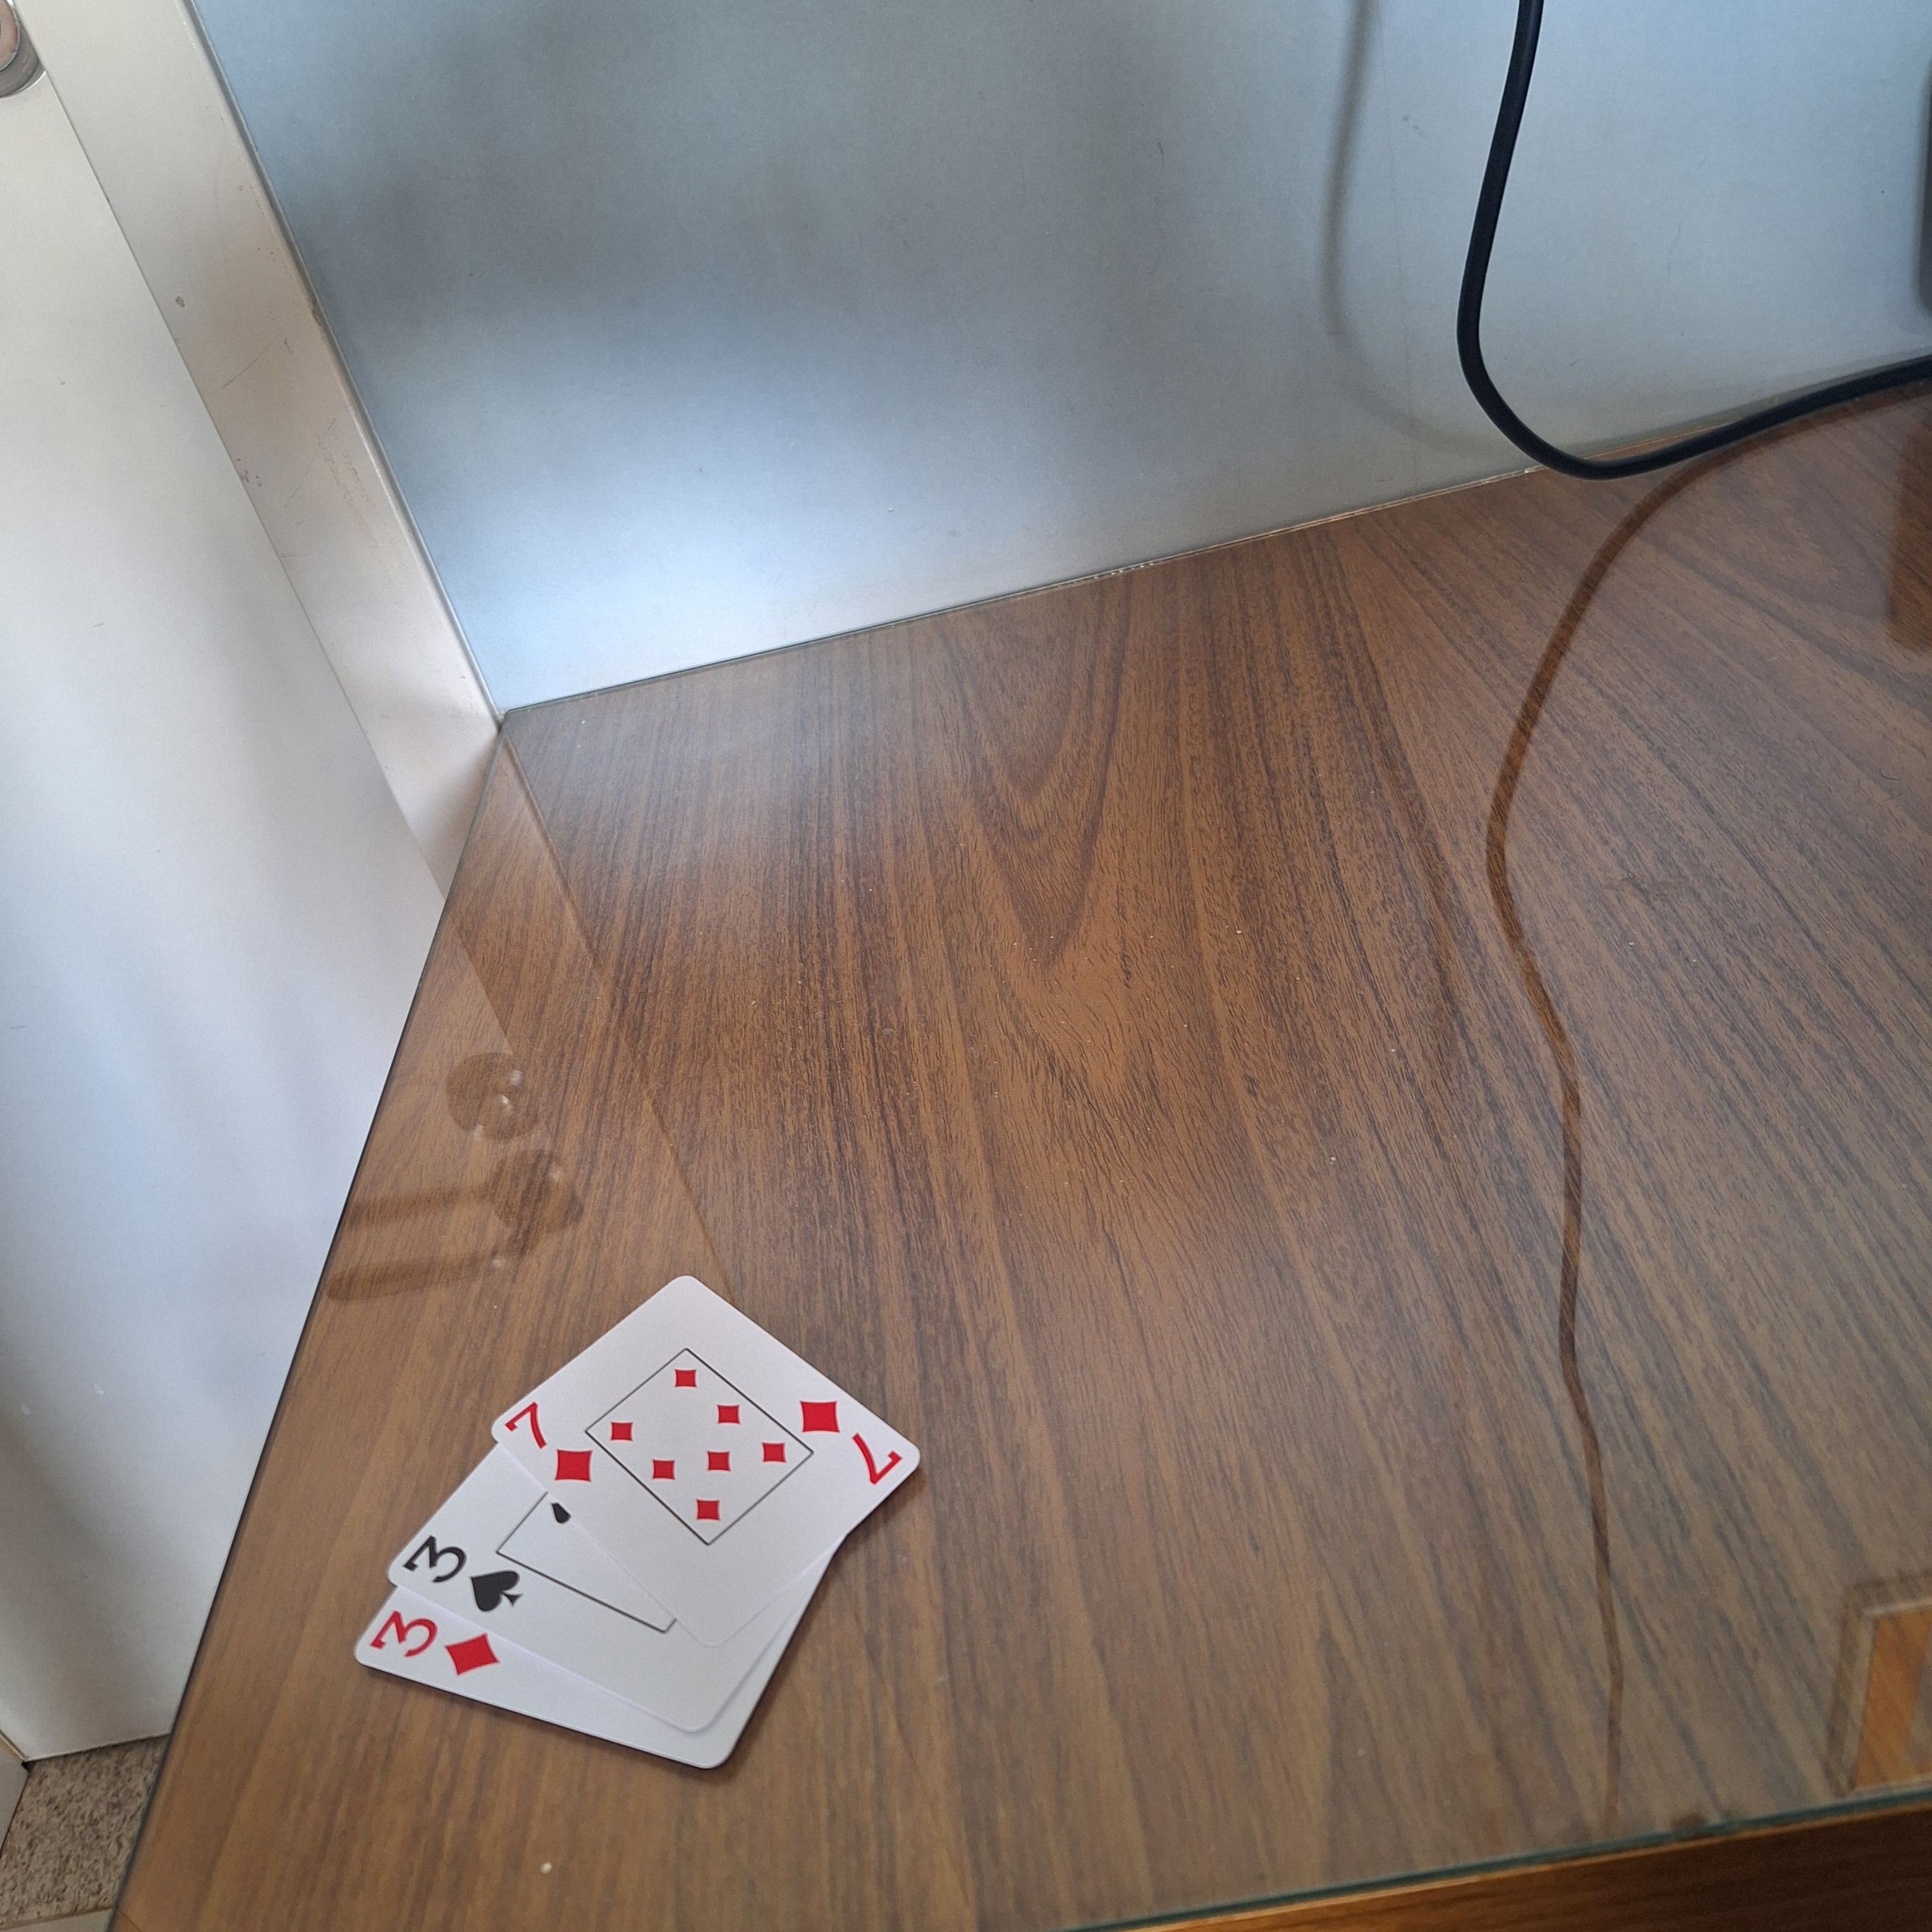3E: (402, 1527, 531, 1614)
3O: (363, 1610, 499, 1683)
7O: (791, 1384, 913, 1490), (499, 1396, 602, 1493)
